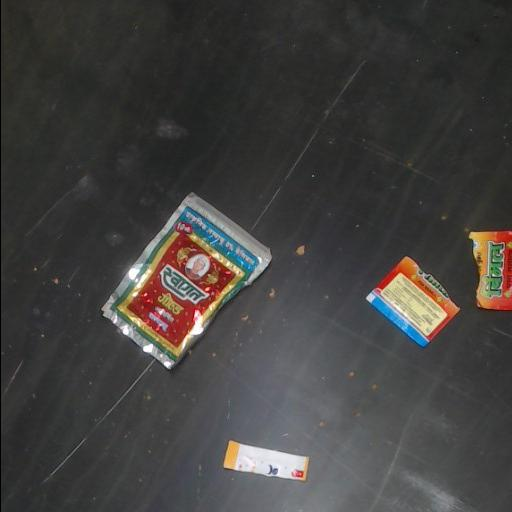cotton: (1, 0, 512, 511)
packet: (103, 193, 271, 368), (366, 256, 458, 345), (223, 440, 308, 480), (470, 230, 512, 310)
